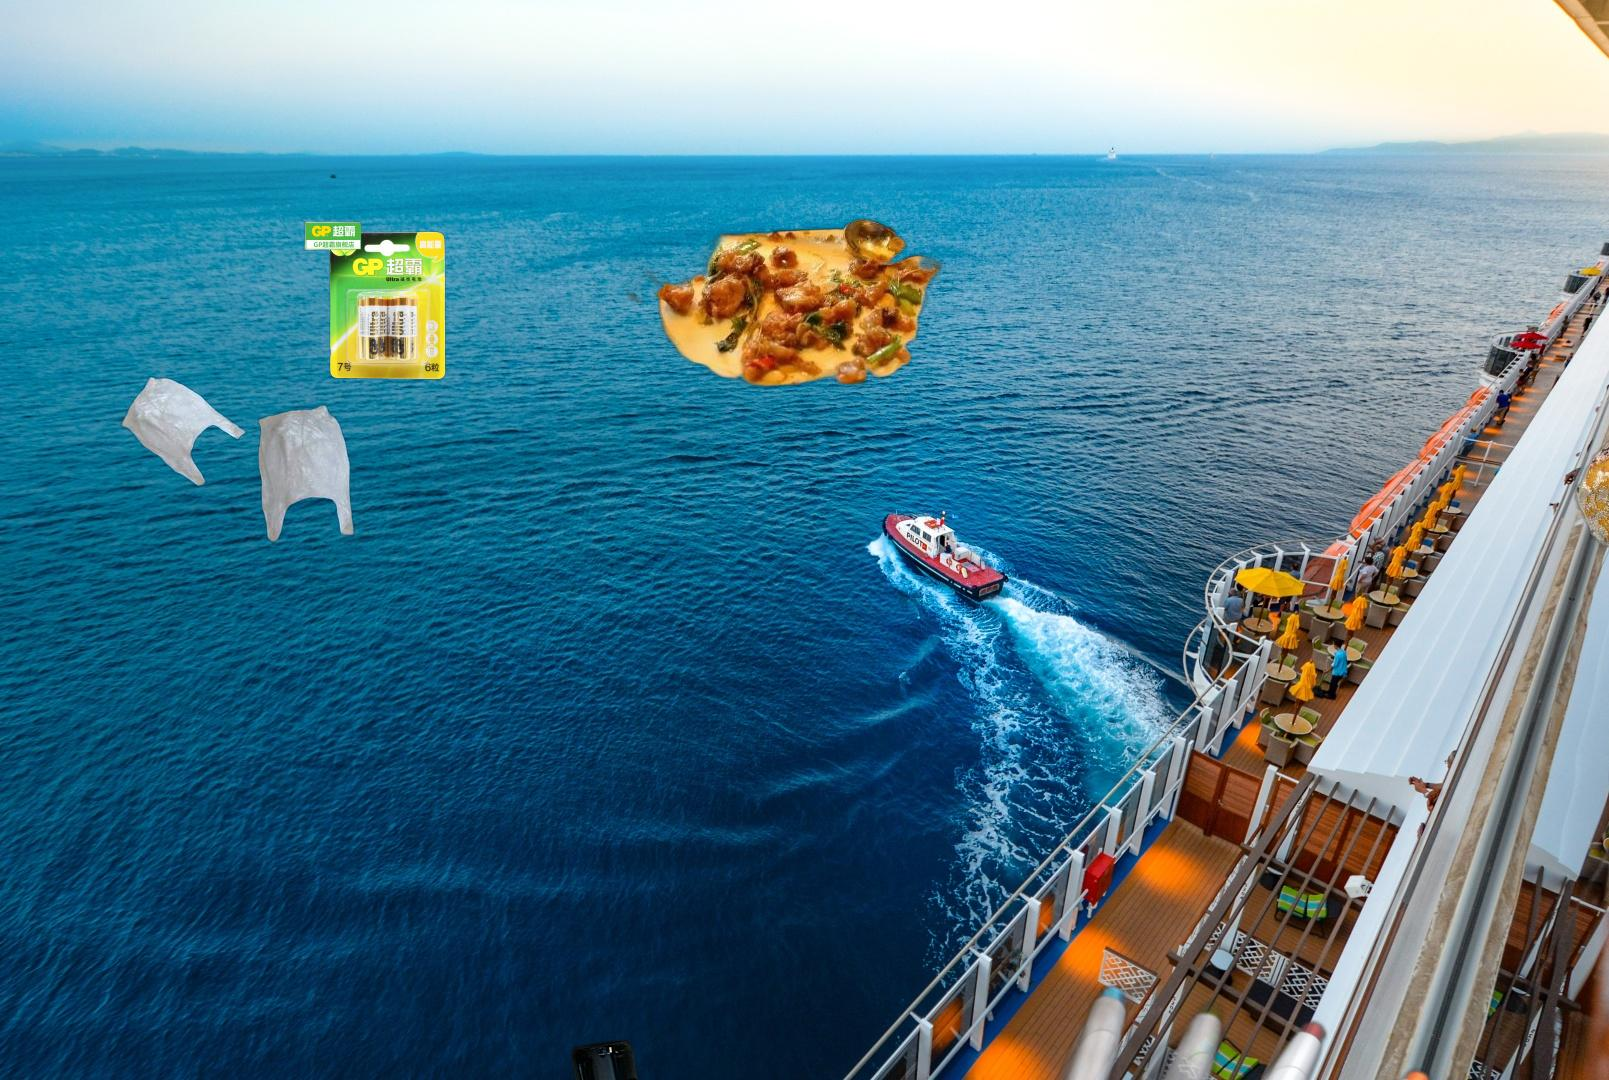battery: (304, 221, 448, 381)
biological: (570, 217, 977, 392), (1572, 425, 1609, 565)
glass: (568, 1034, 660, 1080)
penholder: (941, 969, 1569, 1080)
plastic-bag: (117, 374, 358, 545)
